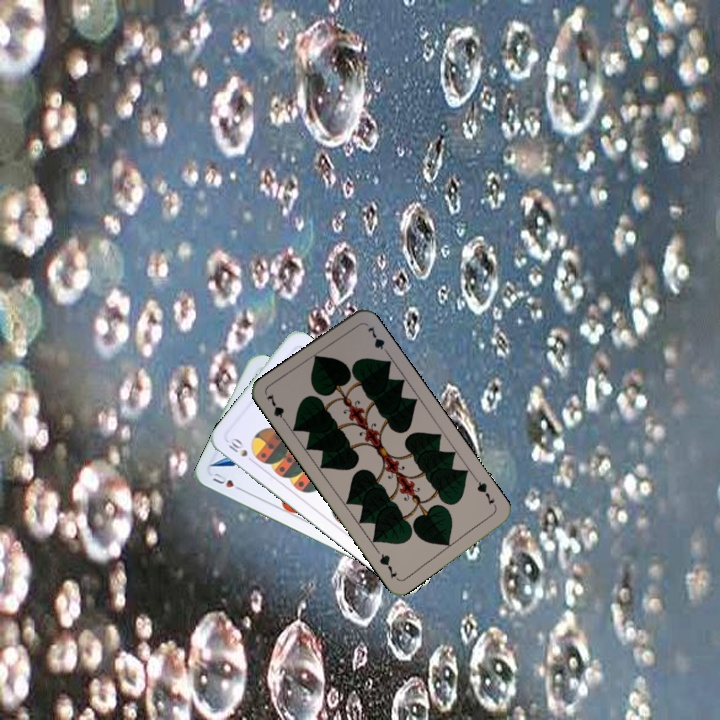G7: (262, 390, 290, 427), (471, 475, 499, 511)
HU: (208, 468, 246, 494)
S10: (223, 434, 250, 460)
